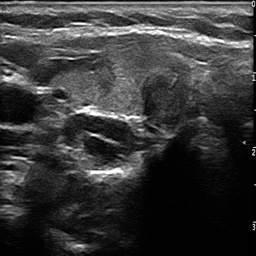mass: (84, 27, 118, 89)
